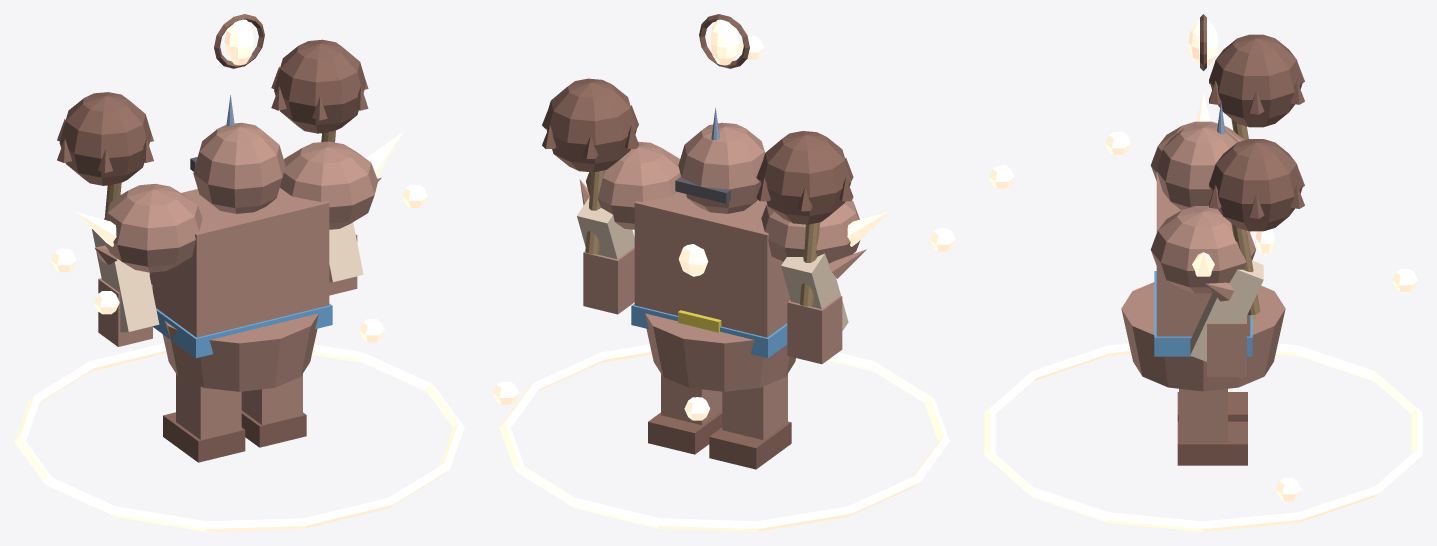
Rendered from evolved_mega_knight.glb.
3 views of the same model, side by side, from view 1: azimuth 30°, elevation 25°; view 2: azimuth 150°, elevation 25°; view 3: azimuth 270°, elevation 25° (orthographic).
Parts seen in each view (by area): view 1: evolved_mega_knight; view 2: evolved_mega_knight; view 3: evolved_mega_knight.
Part boxes in pixels (left/top/right/bottom): evolved_mega_knight: left=14, top=14, right=464, bottom=531; evolved_mega_knight: left=493, top=14, right=955, bottom=531; evolved_mega_knight: left=984, top=14, right=1422, bottom=531.
Size of the model in its own units: 4.22 by 4.37 by 4.11.
